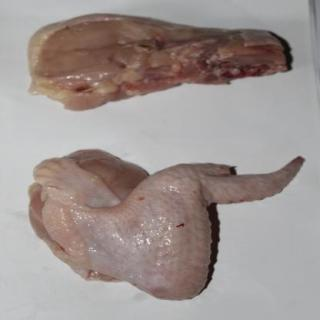Ayam: (28, 149, 306, 301), (27, 13, 290, 112)
